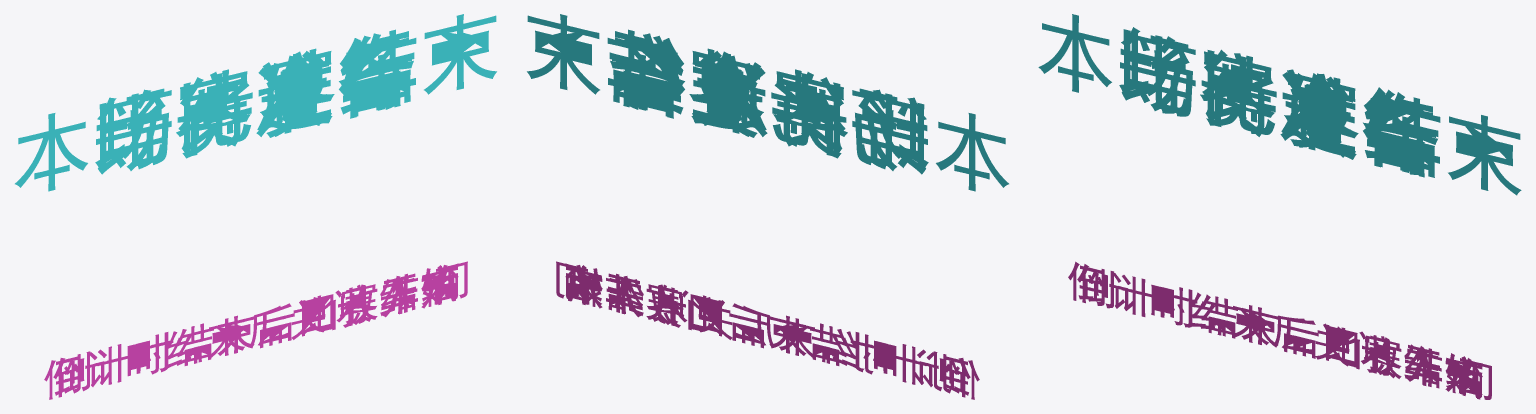
File: A002-RaceManager-ChineseVector-v5.glb
The picture shows the model from 3 angles, left to right: view 1: azimuth 30°, elevation 25°; view 2: azimuth 150°, elevation 25°; view 3: azimuth 330°, elevation 25°; orthographic projection.
Visible parts, largest first — view 1: Race_Phase_RECYCLING_Status, Race_Phase_PREPARING_Status, Race_Phase_WAITING_Status, Race_Phase_PREPARING_Hint, Race_Phase_RACING_Status, Race_Phase_WAITING_Hint, Race_Phase_RECYCLING_Hint, Race_Phase_RACING_Hint; view 2: Race_Phase_RECYCLING_Status, Race_Phase_PREPARING_Status, Race_Phase_WAITING_Status, Race_Phase_PREPARING_Hint, Race_Phase_WAITING_Hint, Race_Phase_RACING_Status, Race_Phase_RACING_Hint, Race_Phase_RECYCLING_Hint; view 3: Race_Phase_RECYCLING_Status, Race_Phase_PREPARING_Status, Race_Phase_WAITING_Status, Race_Phase_PREPARING_Hint, Race_Phase_WAITING_Hint, Race_Phase_RACING_Status, Race_Phase_RECYCLING_Hint, Race_Phase_RACING_Hint.
Boxes of the visible parts, left/top/right/bottom form: Race_Phase_RECYCLING_Status: left=15, top=14, right=496, bottom=191; Race_Phase_PREPARING_Status: left=98, top=35, right=413, bottom=174; Race_Phase_WAITING_Status: left=96, top=33, right=415, bottom=169; Race_Phase_PREPARING_Hint: left=44, top=261, right=467, bottom=399; Race_Phase_RACING_Status: left=98, top=31, right=414, bottom=172; Race_Phase_WAITING_Hint: left=53, top=265, right=458, bottom=397; Race_Phase_RECYCLING_Hint: left=56, top=263, right=458, bottom=396; Race_Phase_RACING_Hint: left=53, top=266, right=457, bottom=397; Race_Phase_RECYCLING_Status: left=527, top=14, right=1008, bottom=191; Race_Phase_PREPARING_Status: left=610, top=35, right=925, bottom=174; Race_Phase_WAITING_Status: left=608, top=33, right=927, bottom=169; Race_Phase_PREPARING_Hint: left=556, top=261, right=979, bottom=399; Race_Phase_WAITING_Hint: left=565, top=265, right=970, bottom=395; Race_Phase_RACING_Status: left=609, top=31, right=925, bottom=171; Race_Phase_RACING_Hint: left=566, top=266, right=970, bottom=396; Race_Phase_RECYCLING_Hint: left=565, top=263, right=969, bottom=397; Race_Phase_RECYCLING_Status: left=1038, top=14, right=1521, bottom=195; Race_Phase_PREPARING_Status: left=1121, top=29, right=1437, bottom=177; Race_Phase_WAITING_Status: left=1120, top=27, right=1439, bottom=172; Race_Phase_PREPARING_Hint: left=1068, top=261, right=1491, bottom=399; Race_Phase_WAITING_Hint: left=1077, top=264, right=1482, bottom=399; Race_Phase_RACING_Status: left=1122, top=29, right=1438, bottom=174; Race_Phase_RECYCLING_Hint: left=1079, top=265, right=1482, bottom=397; Race_Phase_RACING_Hint: left=1077, top=264, right=1482, bottom=396.
Bounding box in the file's own units: 1 × 0.5696 × 0.
